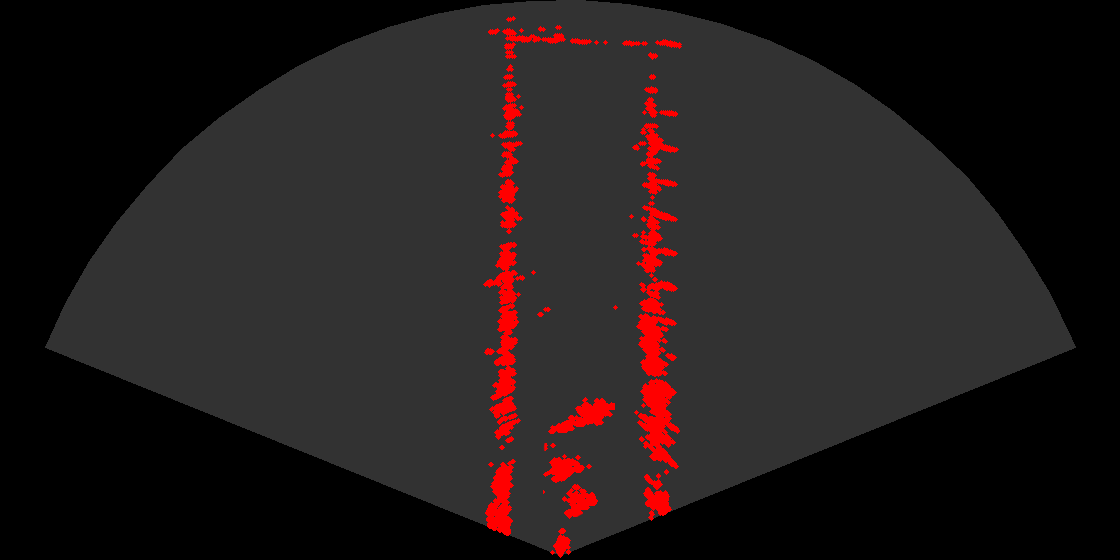cage: (543, 443, 606, 527)
frogman: (547, 391, 615, 438)
